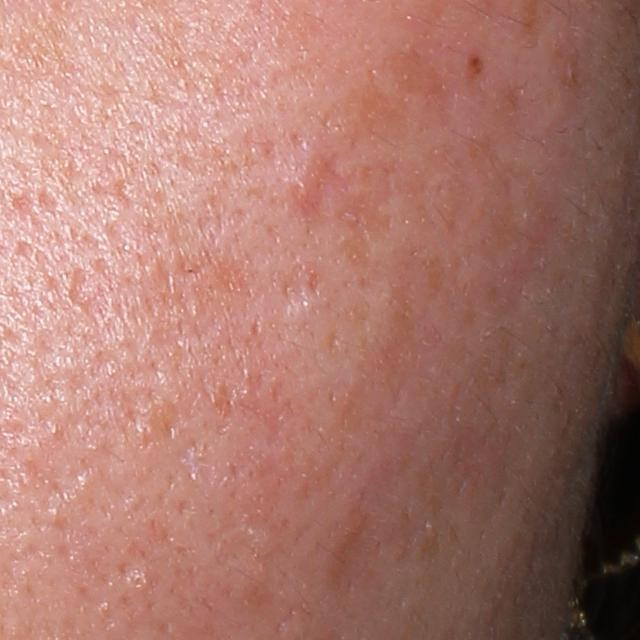atrophic_scar: (326, 156, 399, 277), (66, 264, 118, 325), (172, 436, 218, 498), (279, 262, 327, 312)
papule: (291, 175, 322, 209)
